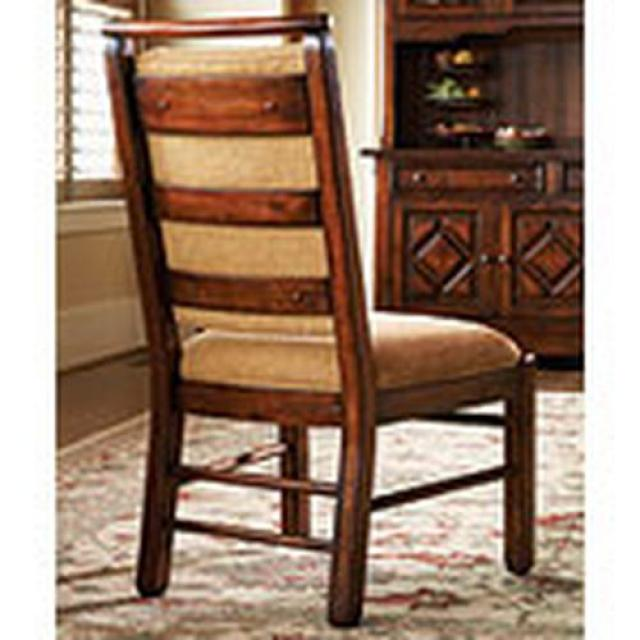chair: (102, 17, 539, 631)
